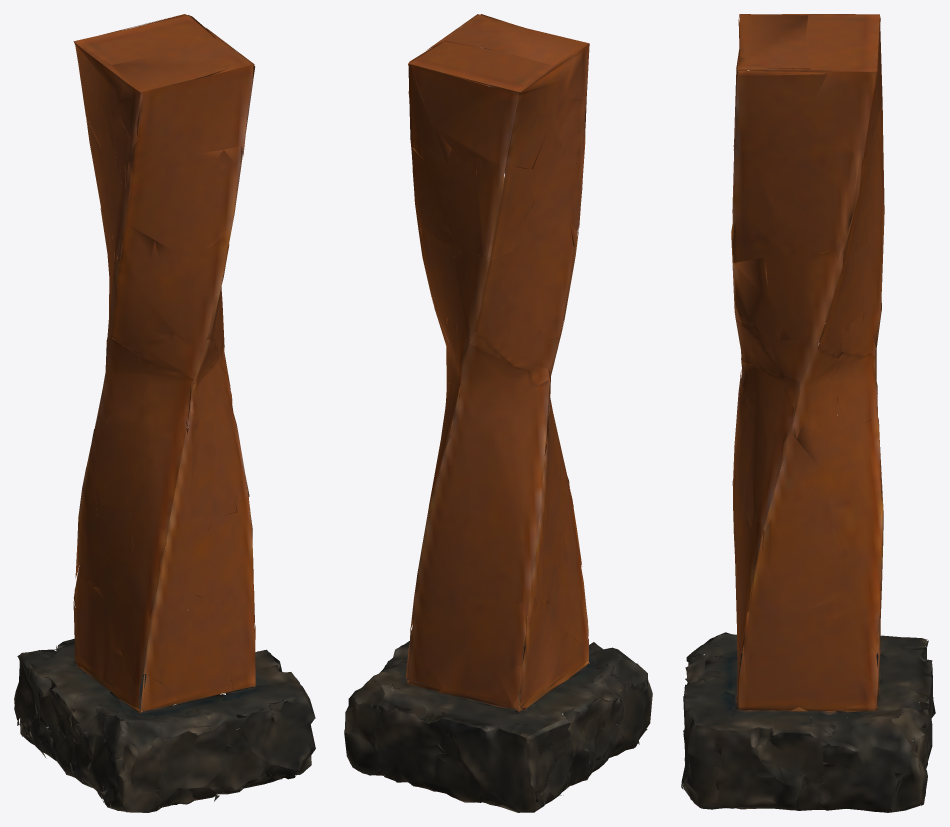
File: monolith.glb
3 views of the same model, side by side, from view 1: azimuth 30°, elevation 25°; view 2: azimuth 150°, elevation 25°; view 3: azimuth 270°, elevation 25° (orthographic). The views are drawn at different scales.
Parts seen in each view (by area): view 1: LO.001; view 2: LO.001; view 3: LO.001.
Part boxes in pixels (<box>): LO.001: <box>14,14,315,812</box>; LO.001: <box>344,14,652,812</box>; LO.001: <box>681,14,935,812</box>.
Bounding box in the file's own units: 0.3027 × 0.9845 × 0.3124.
1 material, 1 textured.
